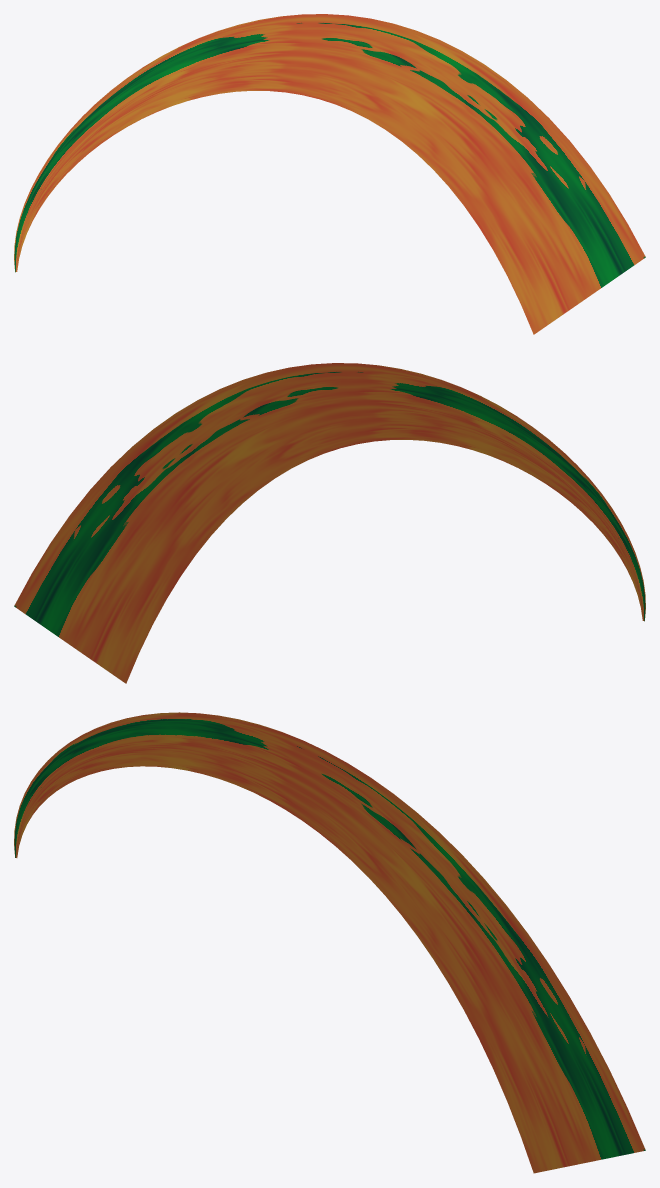
File: p_trashbot_start_sprinkler04_pose0.fbx
The picture shows the model from 3 angles, top to bottom: view 1: azimuth 30°, elevation 25°; view 2: azimuth 150°, elevation 25°; view 3: azimuth 330°, elevation 25°; orthographic projection.
Visible parts, largest first — view 1: p_sprinkler_start_plane_04_pose0; view 2: p_sprinkler_start_plane_04_pose0; view 3: p_sprinkler_start_plane_04_pose0.
Part boxes in pixels (x1,y1,x2,y2): p_sprinkler_start_plane_04_pose0: (14,14,645,334); p_sprinkler_start_plane_04_pose0: (14,363,645,683); p_sprinkler_start_plane_04_pose0: (14,712,645,1173).
Size of the model in its own units: 124 by 71.61 by 8.9e-06.
